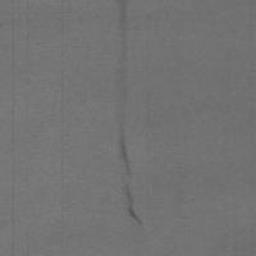Inclusion: (111, 0, 145, 227)
